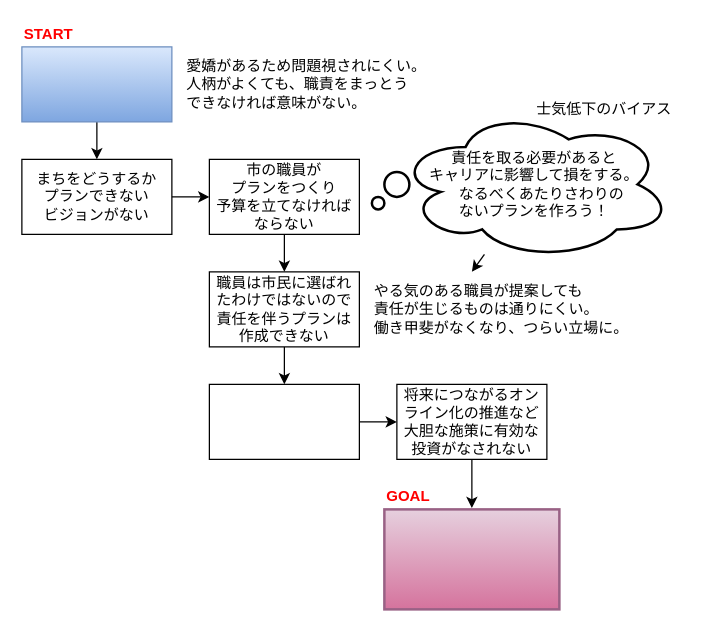
The diagram is 719 pixels wide and 631 high, and some of its shapes have lost their labels. Each missing label, with the centre of its shape:
"各部署の要望を まとめて予算をつけるといった無難な選択しかできない" belongs at (x=283, y=421).
"市民生活が グレードアップ していかない 閉塞感・停滞感" belongs at (x=471, y=559).
"市長にやる気がない 責任をとる気がない" belongs at (x=96, y=84).
